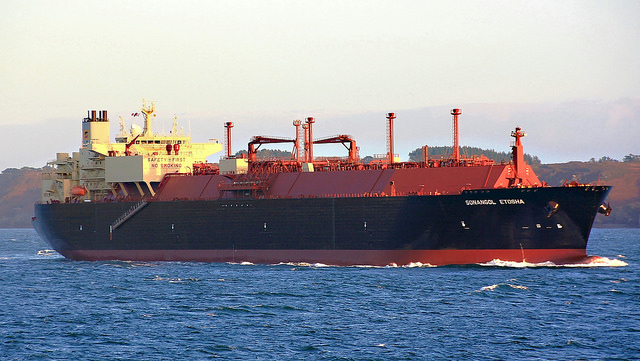LNG_ship: (27, 98, 613, 271)
